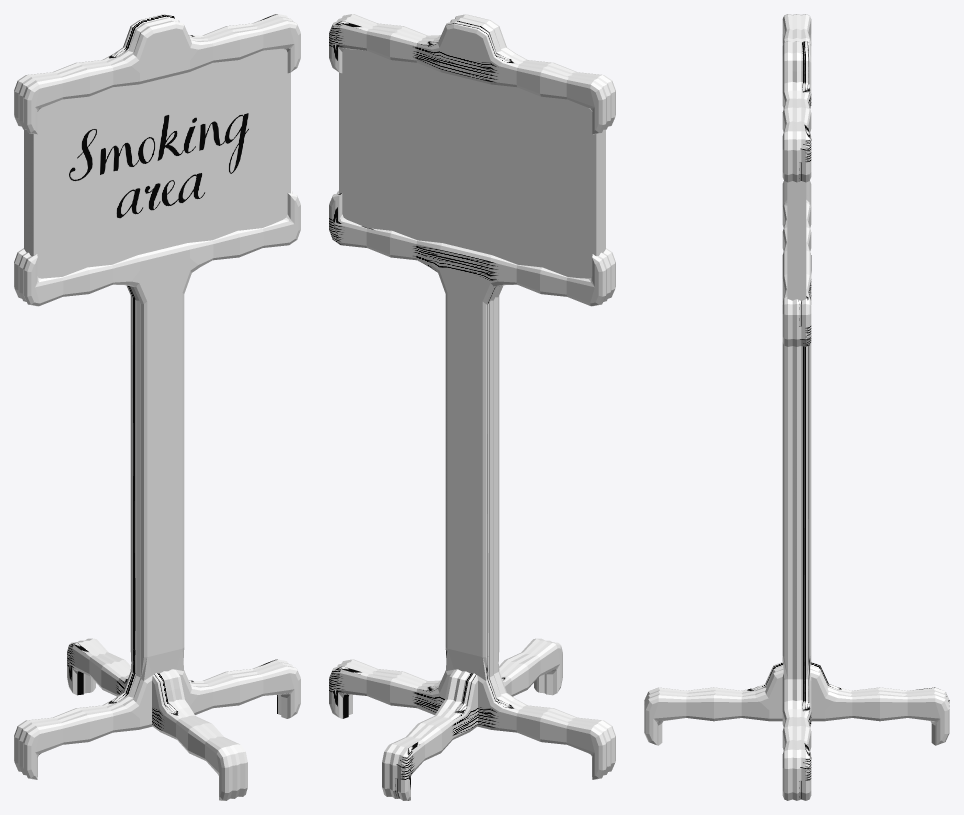
The model's file is smoking sign.fbx.
3 renders of one model, left to right at view 1: azimuth 30°, elevation 25°; view 2: azimuth 150°, elevation 25°; view 3: azimuth 270°, elevation 25°, orthographic. The views are drawn at different scales.
Parts seen in each view (by area): view 1: frame, sign; view 2: frame, sign; view 3: frame, sign.
Part boxes in pixels (x1,y1,x2,y2): frame: (14, 14, 300, 800); sign: (24, 49, 290, 278); frame: (329, 14, 615, 800); sign: (339, 49, 605, 278); frame: (644, 14, 949, 800); sign: (787, 181, 806, 300).
Bounding box in the file's own units: 161 × 404 × 161.
